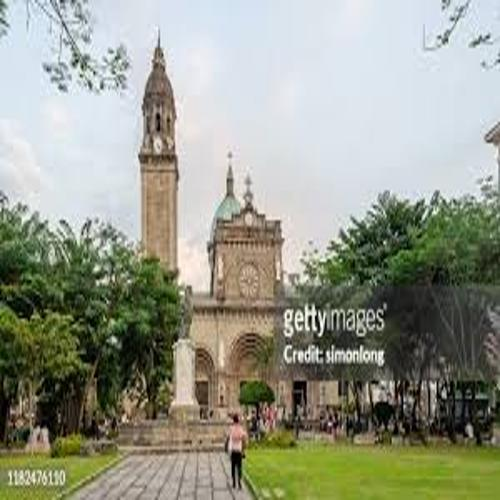Manila Cathedral Church: (90, 17, 341, 449)
